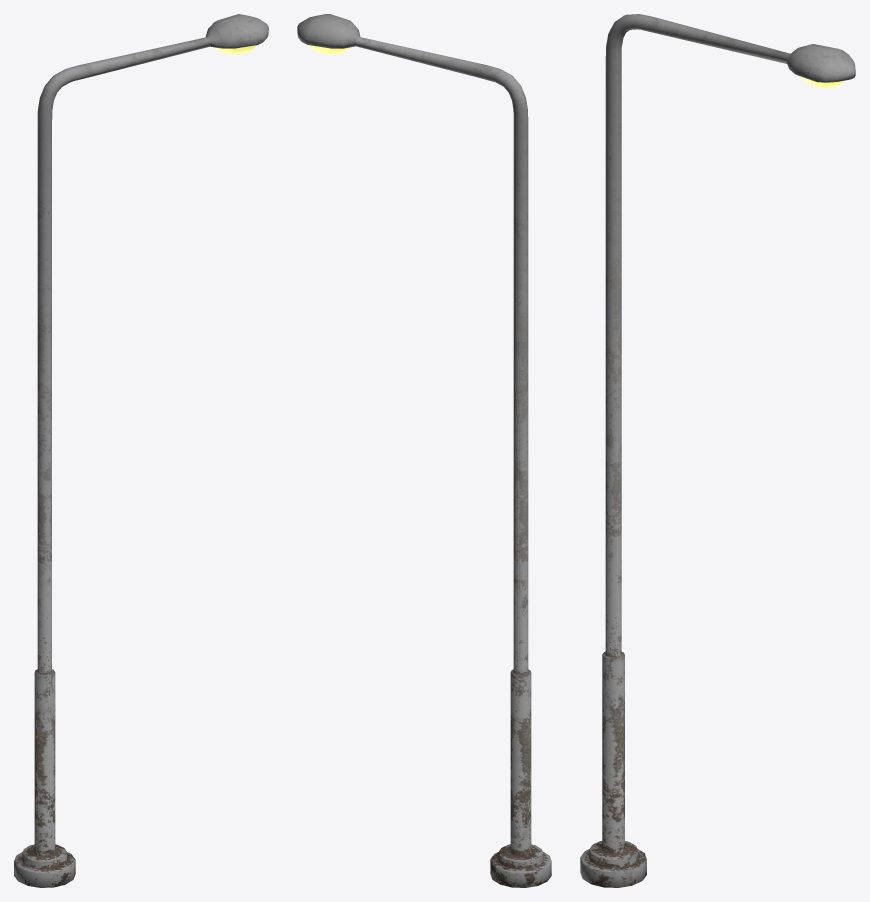
Rendered from street_lamp.glb.
The picture shows the model from 3 angles, left to right: view 1: azimuth 30°, elevation 25°; view 2: azimuth 150°, elevation 25°; view 3: azimuth 330°, elevation 25°; orthographic projection. The views are drawn at different scales.
Parts seen in each view (by area): view 1: polySurface132_001; view 2: polySurface132_001; view 3: polySurface132_001.
Boxes of the visible parts, left/top/right/bottom form: polySurface132_001: left=14, top=14, right=268, bottom=887; polySurface132_001: left=297, top=14, right=551, bottom=887; polySurface132_001: left=580, top=14, right=855, bottom=887.
Bounding box in the file's own units: 4.6 × 14.25 × 0.9612.
2 materials, 2 textured.
